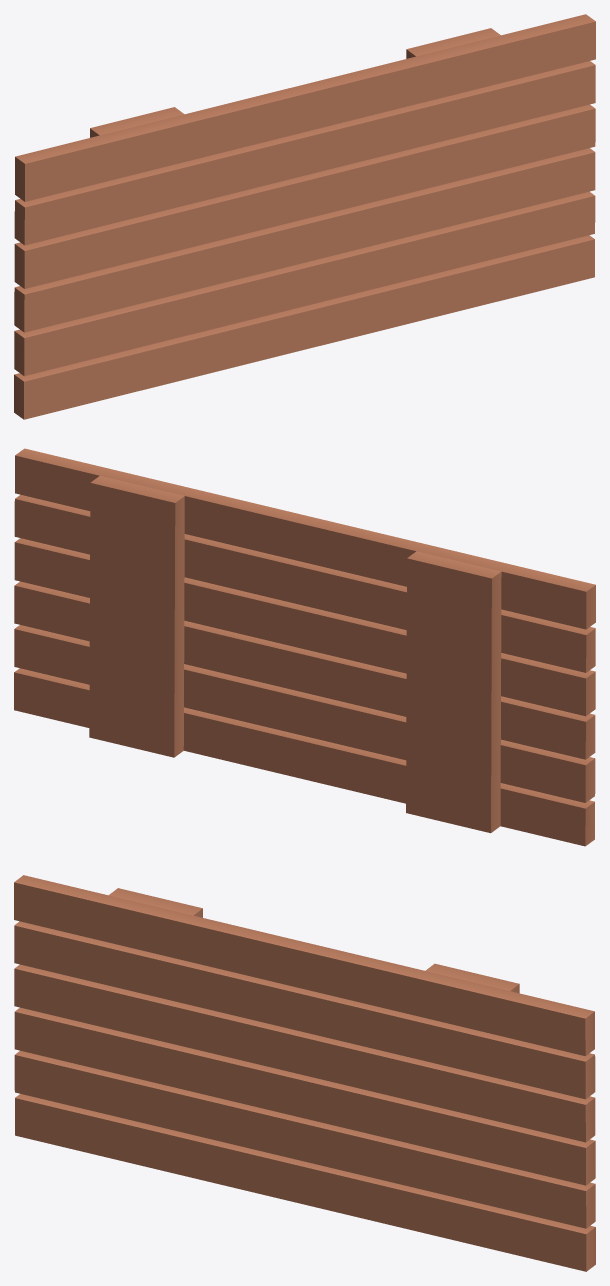
The model's file is planks.102_lev4.glb.
3 renders of one model, top to bottom at view 1: azimuth 30°, elevation 25°; view 2: azimuth 150°, elevation 25°; view 3: azimuth 330°, elevation 25°, orthographic.
Visible parts, largest first — view 1: planks.102_lev4; view 2: planks.102_lev4; view 3: planks.102_lev4.
Part boxes in pixels (x1,y1,x2,y2): planks.102_lev4: [14, 14, 595, 419]; planks.102_lev4: [14, 448, 595, 846]; planks.102_lev4: [14, 875, 595, 1271].
Bounding box in the file's own units: 7.19 × 3.07 × 0.5089.
1 material, 1 textured.
